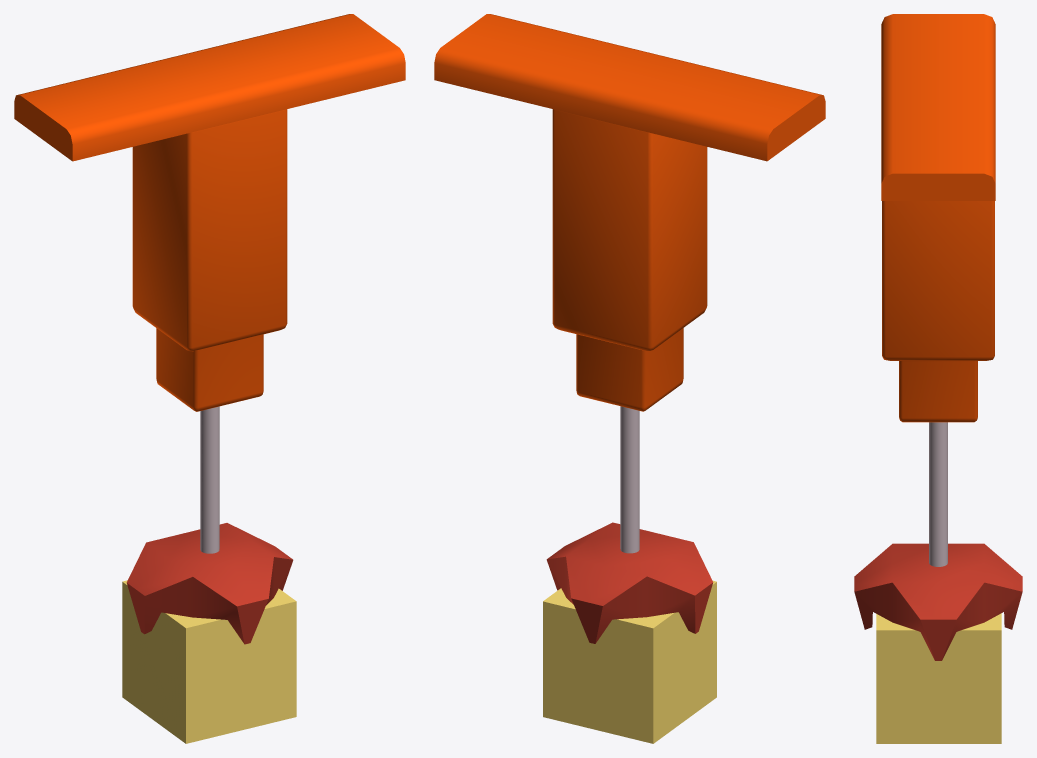
The model's file is trap1.fbx.
3 views of the same model, side by side, from view 1: azimuth 30°, elevation 25°; view 2: azimuth 150°, elevation 25°; view 3: azimuth 270°, elevation 25° (orthographic).
Visible parts, largest first — view 1: Cube.006, Cube.005; view 2: Cube.006, Cube.005; view 3: Cube.006, Cube.005.
Part boxes in pixels (<box>): Cube.006: <box>122,109,296,743</box>; Cube.005: <box>14,14,405,161</box>; Cube.006: <box>543,109,716,743</box>; Cube.005: <box>434,14,825,161</box>; Cube.006: <box>854,201,1022,743</box>; Cube.005: <box>881,14,995,200</box>.
Bounding box in the file's own units: 2 × 3.65 × 0.8915.
1 material, 1 textured.
